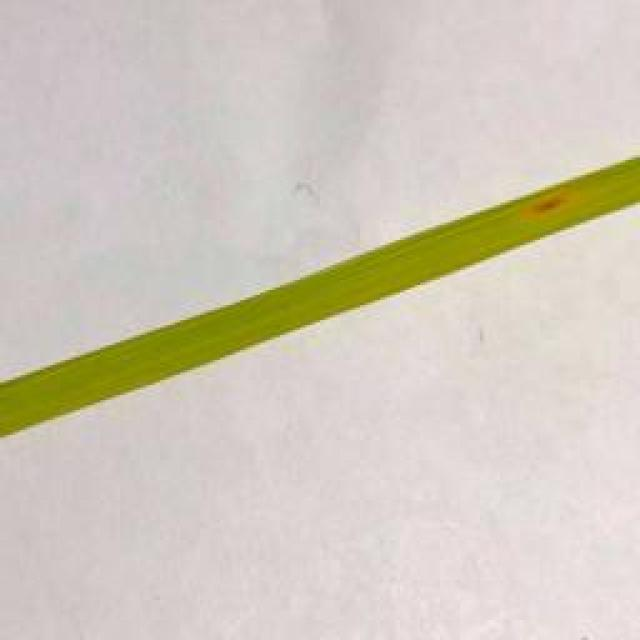Brown_Spot: (508, 196, 579, 221)
